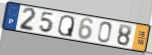0: (97, 21, 114, 44)
2: (19, 7, 37, 33)
5: (38, 11, 56, 33)
6: (76, 16, 95, 41)
8: (116, 24, 133, 47)
Q: (57, 15, 76, 39)
